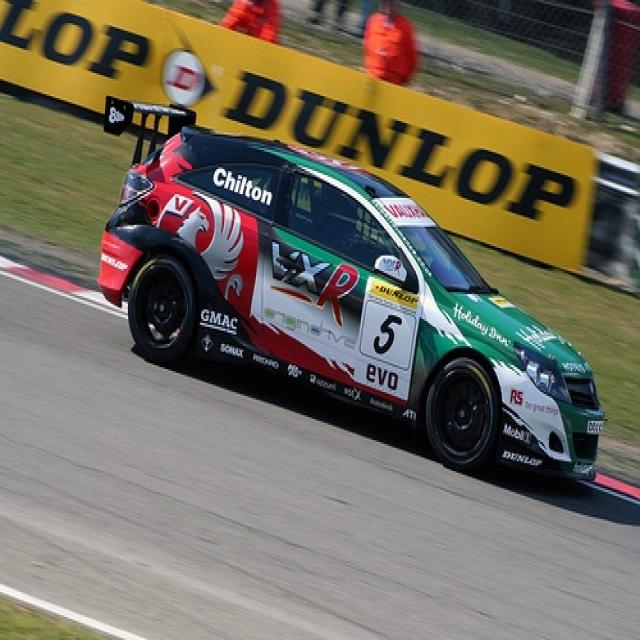car: (102, 90, 607, 480)
